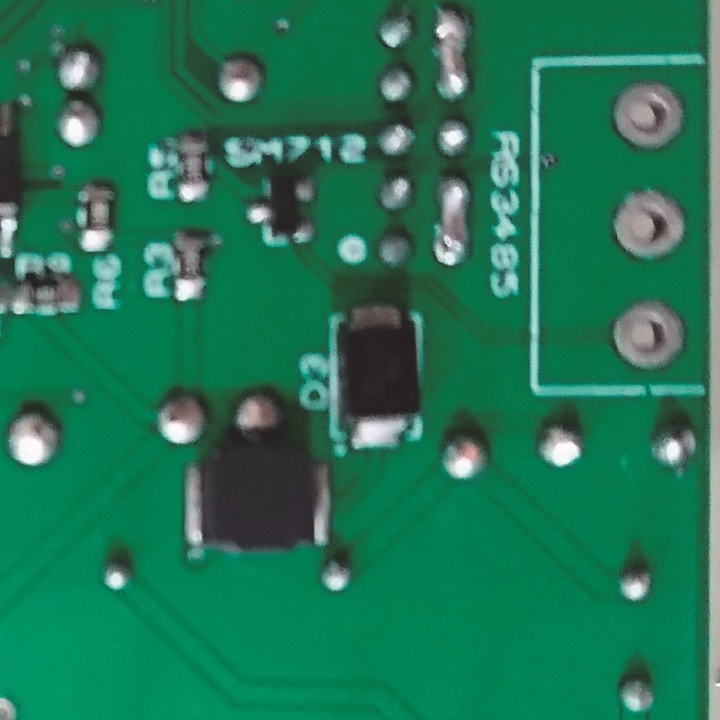F: (611, 187, 689, 264), (610, 298, 687, 375), (608, 78, 686, 150)
P: (430, 4, 474, 100), (433, 173, 473, 268)
